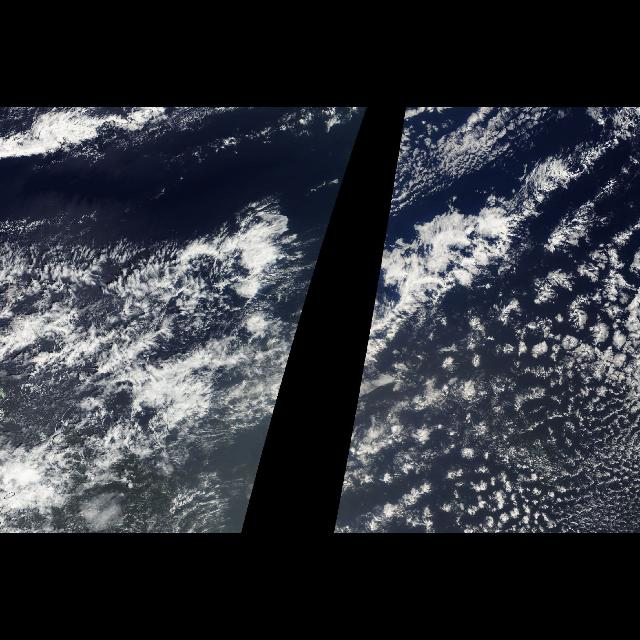Fish: (1, 185, 315, 382), (363, 132, 574, 370), (341, 131, 359, 187)
Flower: (400, 260, 630, 532)
Gravel: (570, 388, 636, 530)
Sugar: (370, 359, 640, 533)
